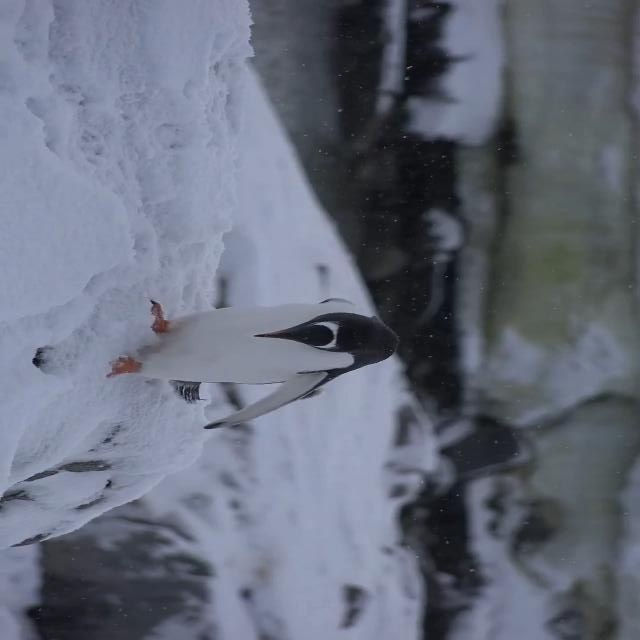penguin: (106, 298, 398, 432)
